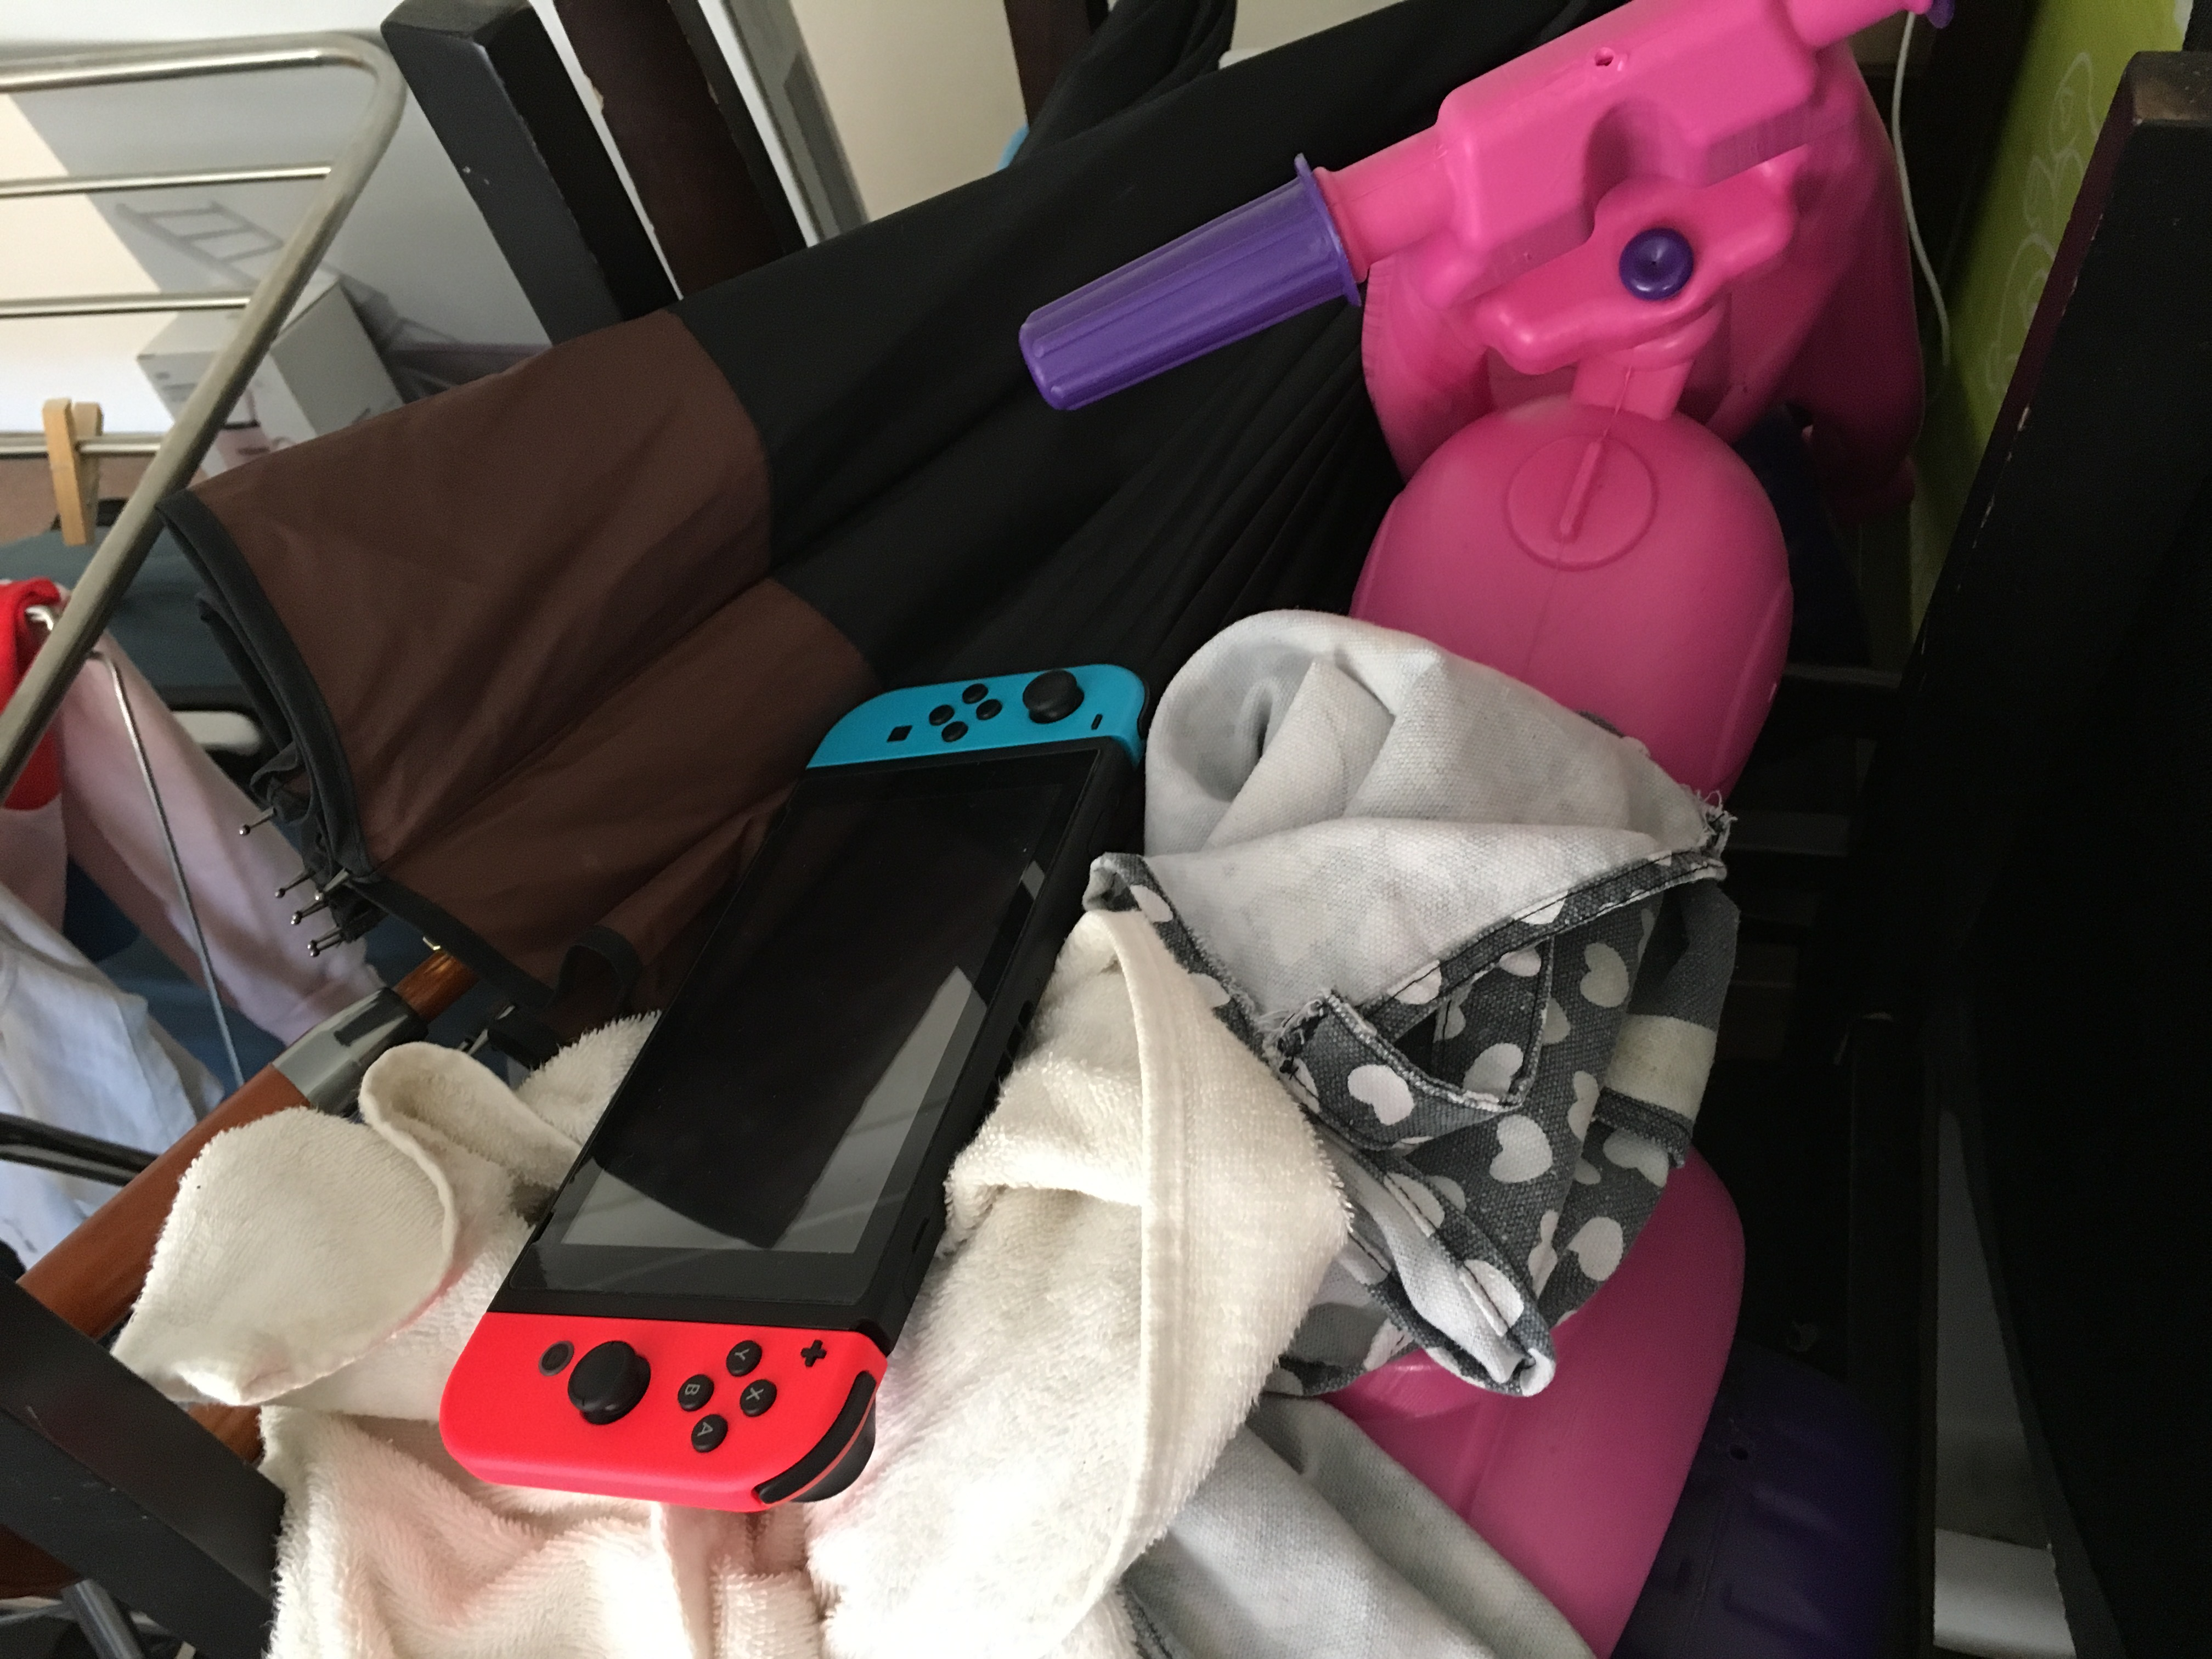NintendoSwitch: (409, 650, 1165, 1537)
